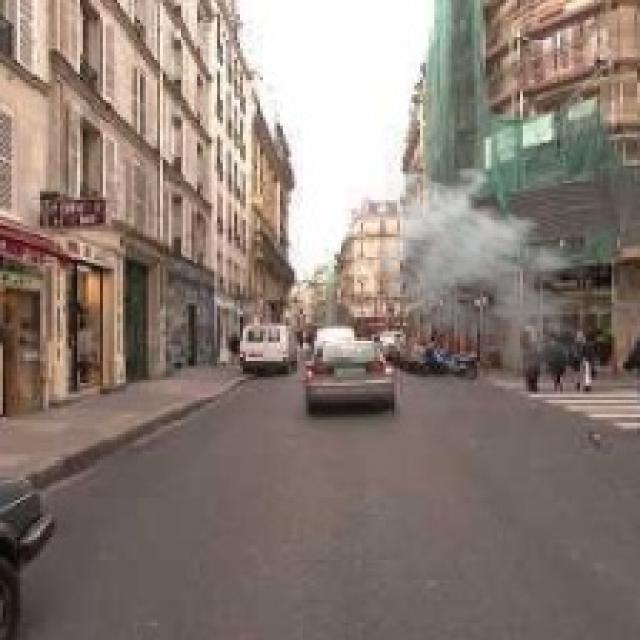Smoke: (368, 166, 606, 374)
